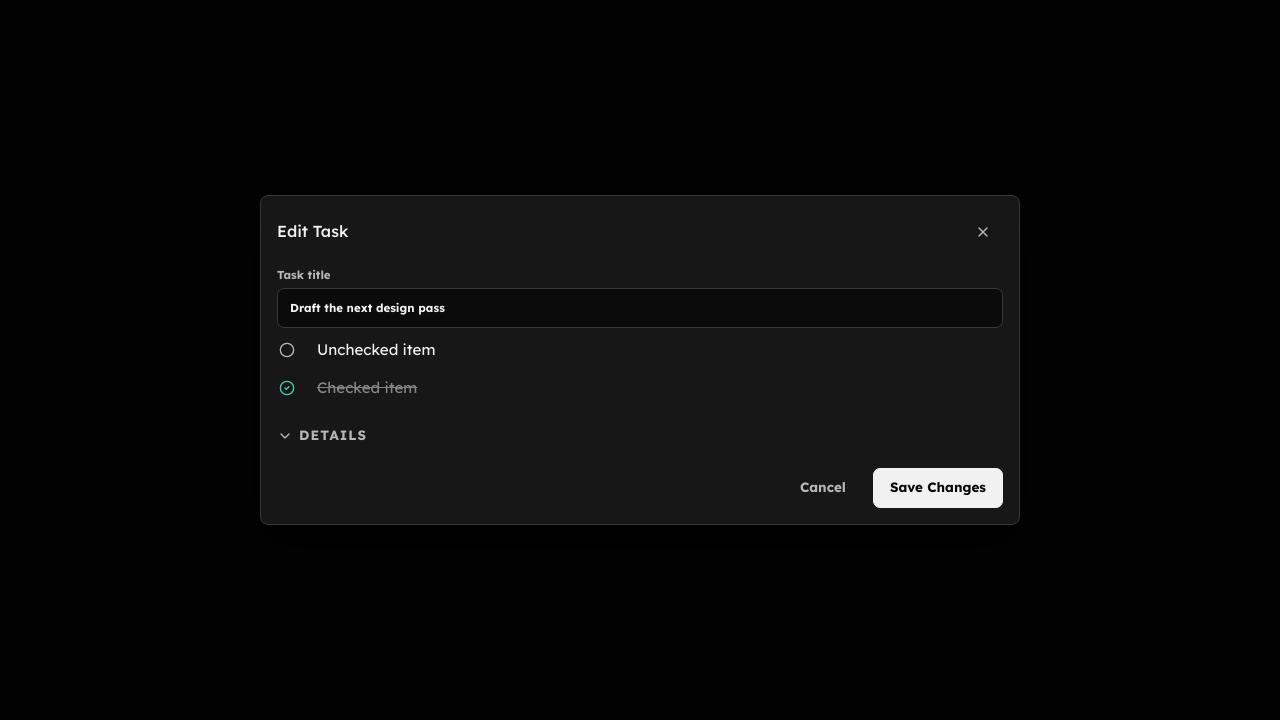
Test: TaskEditor › shows existing checklist items below the title in edit mode without edit controls
Step 1. Click the button "DETAILS" → x=322, y=436, box [277,416,367,456]
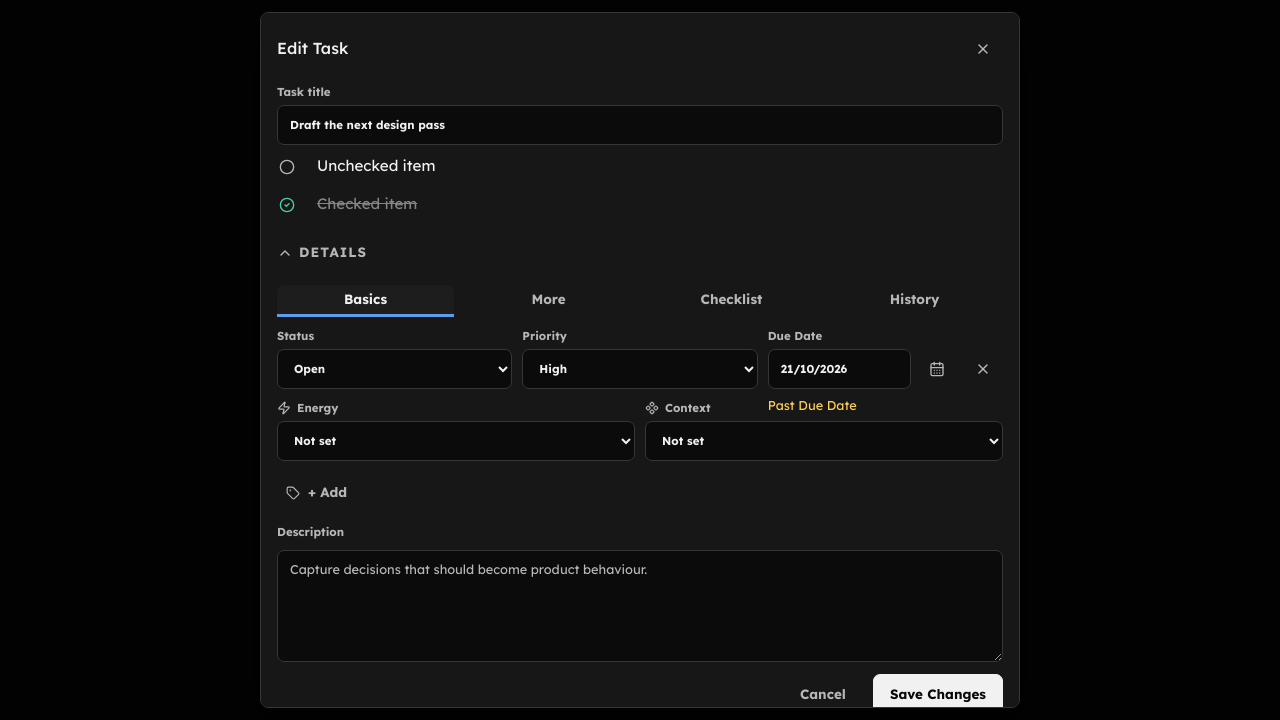
Step 2. Click the tab "Checklist" → x=732, y=301, box [643,285,820,317]
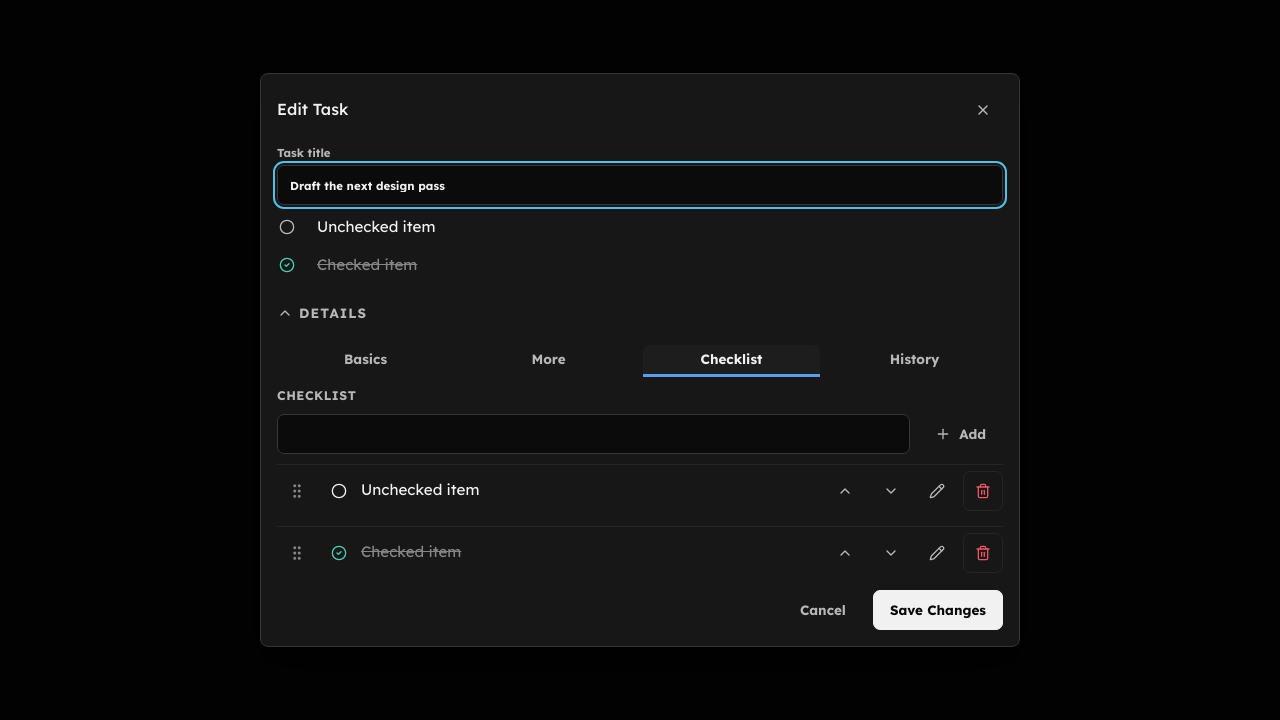
Check: the button named "Delete Checked item" is shown, box [963,533,1003,573]
Check: the button named "Move Unchecked item down" is shown, box [871,471,911,511]
